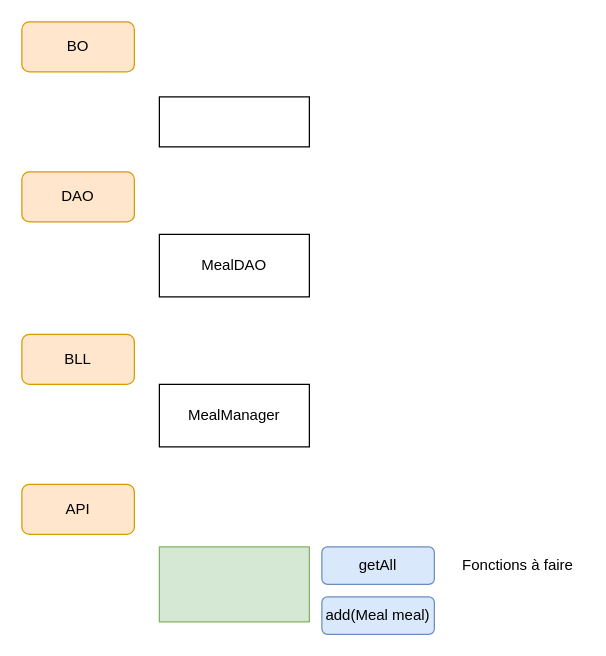
Some shapes in this 606 by 656 pixel diagram are drawn without their labels. The box of each missing label's shape, as (x1, y1, x2, y2) in pixels:
MEAL: (158, 96, 309, 147)
MealREST: (158, 546, 309, 622)
